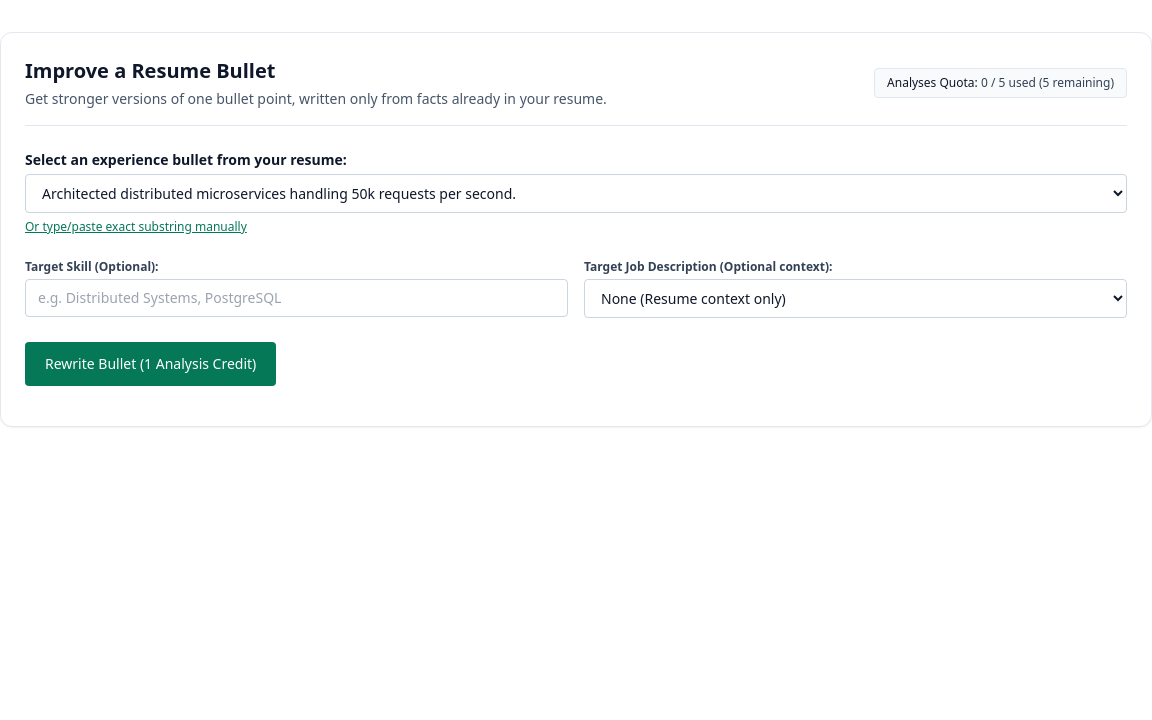
BulletEditor Component › handles 503 unavailable with retry state
What coordinates should you click on to do the following:
click the button "Rewrite Bullet (1 Analysis Credit)"
I would click on:
 (151, 364)
Its box is [25,342,276,386].
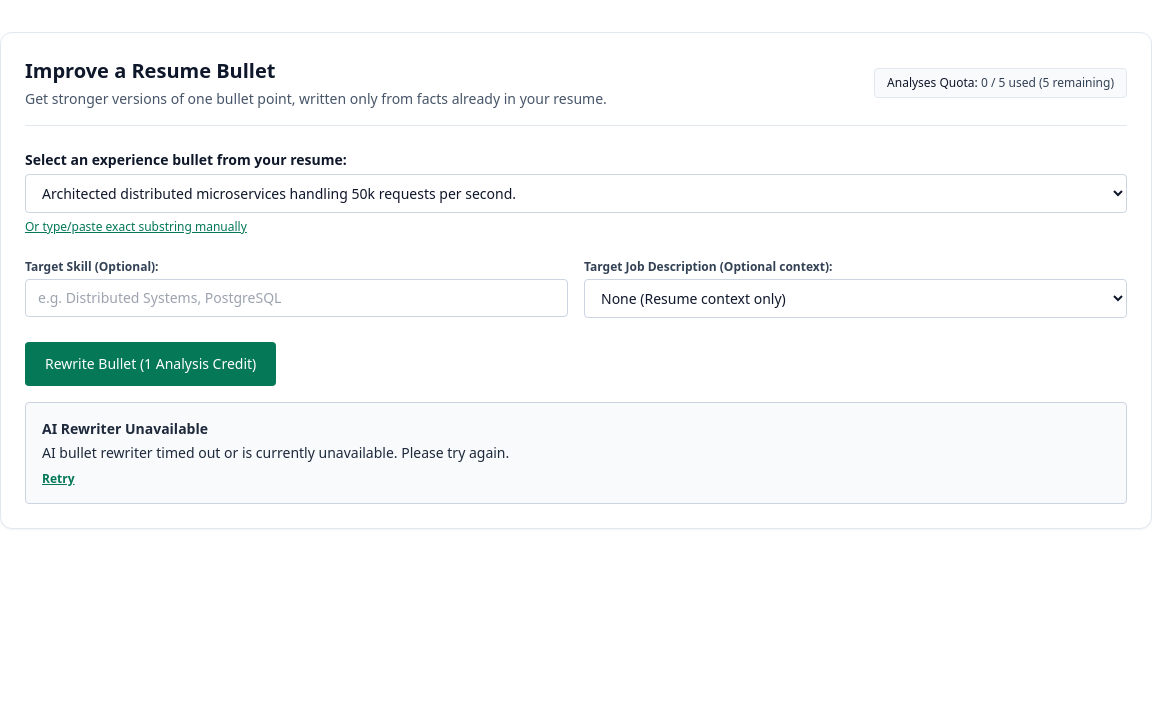
Result: the text "AI Rewriter Unavailable" is shown at [42,419,208,438]
Result: the button "Retry" is shown at [42,471,74,487]
